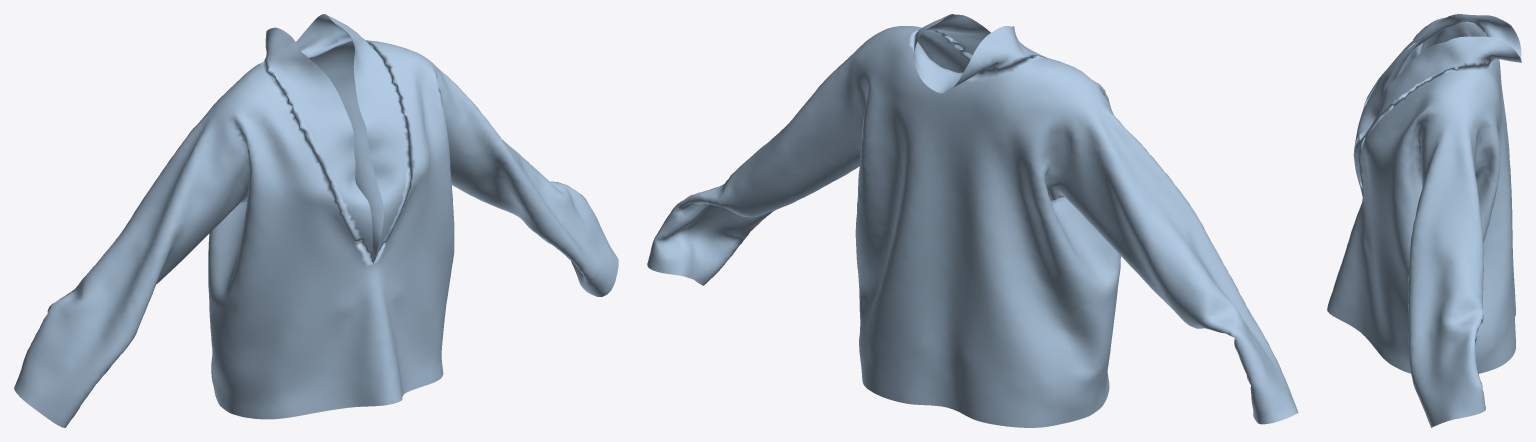
File: jacket_XL.glb
3 views of the same model, side by side, from view 1: azimuth 30°, elevation 25°; view 2: azimuth 150°, elevation 25°; view 3: azimuth 270°, elevation 25° (orthographic). The views are drawn at different scales.
Visible parts, largest first — view 1: geometry_0; view 2: geometry_0; view 3: geometry_0.
Part boxes in pixels (left/top/right/bottom): geometry_0: left=14, top=14, right=618, bottom=427; geometry_0: left=647, top=14, right=1298, bottom=427; geometry_0: left=1327, top=14, right=1521, bottom=427.
Bounding box in the file's own units: 1.24 × 0.6859 × 0.391.
